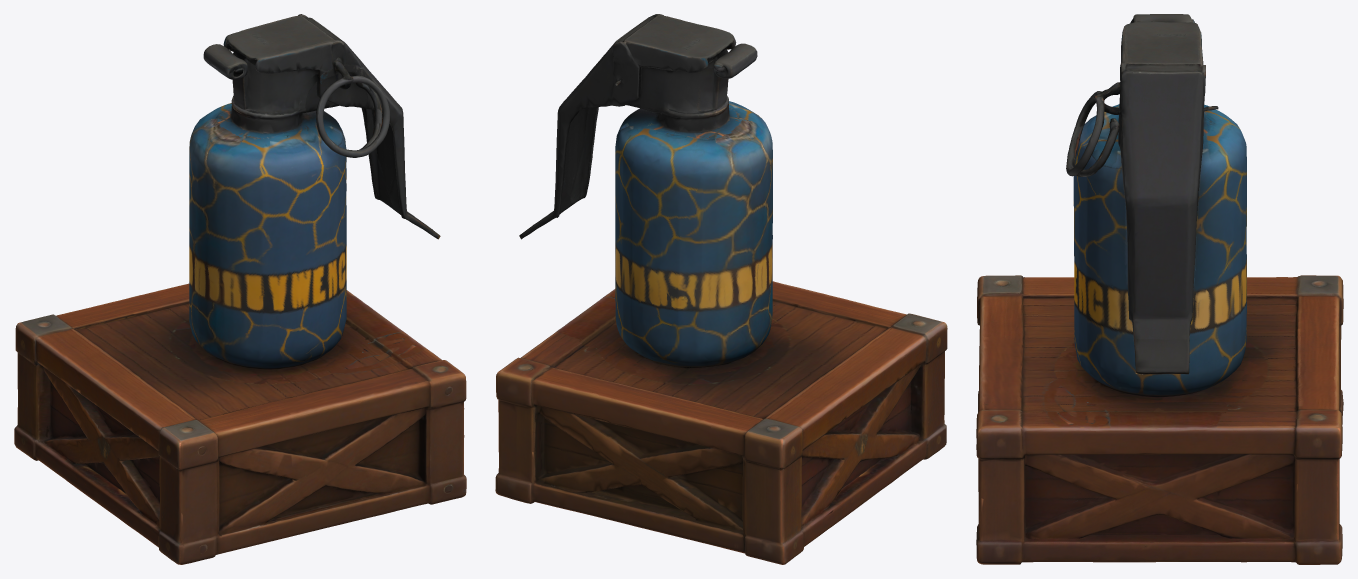
The model's file is Smoke_Grenade_in_the_compressed.glb.
3 views of the same model, side by side, from view 1: azimuth 30°, elevation 25°; view 2: azimuth 150°, elevation 25°; view 3: azimuth 270°, elevation 25° (orthographic). The views are drawn at different scales.
Size of the model in its own units: 1.65 by 2 by 1.42.
1 material, 1 textured.
